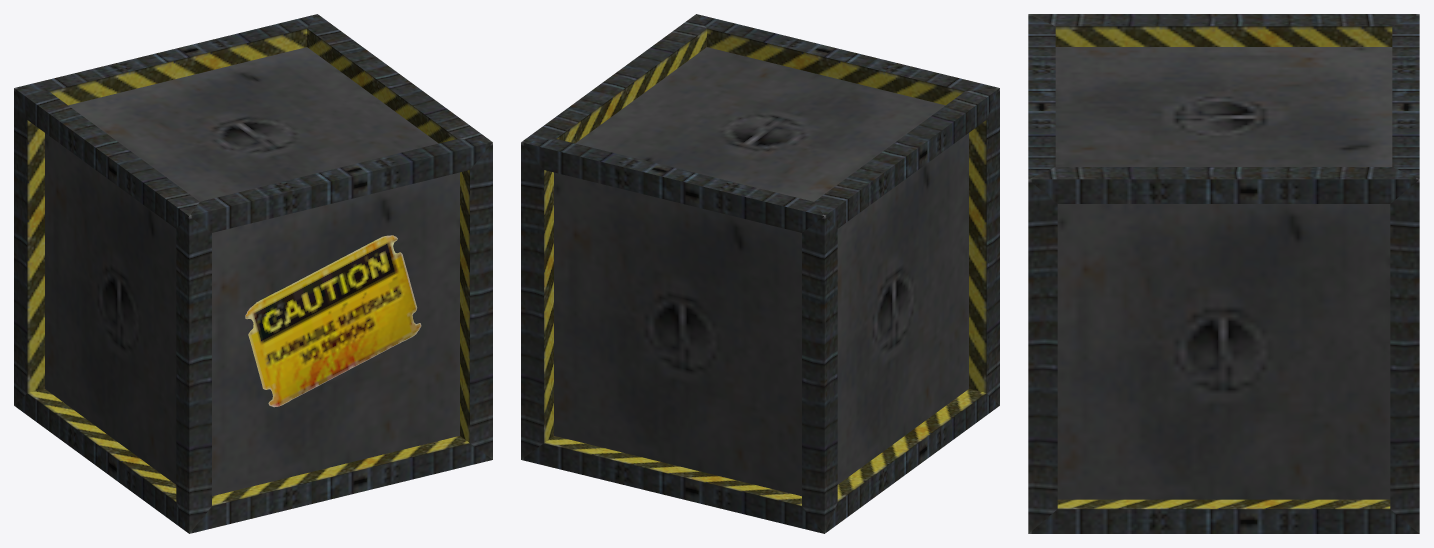
Rendered from Model_Crate_10.fbx.
3 views of the same model, side by side, from view 1: azimuth 30°, elevation 25°; view 2: azimuth 150°, elevation 25°; view 3: azimuth 270°, elevation 25° (orthographic). The views are drawn at different scales.
Visible parts, largest first — view 1: Crates_10; view 2: Crates_10; view 3: Crates_10.
Part boxes in pixels (box(x1,y1,x2,y2)): Crates_10: box(14, 14, 492, 533); Crates_10: box(521, 14, 999, 533); Crates_10: box(1028, 14, 1419, 533).
Bounding box in the file's own units: 66.66 × 66.66 × 66.66.
